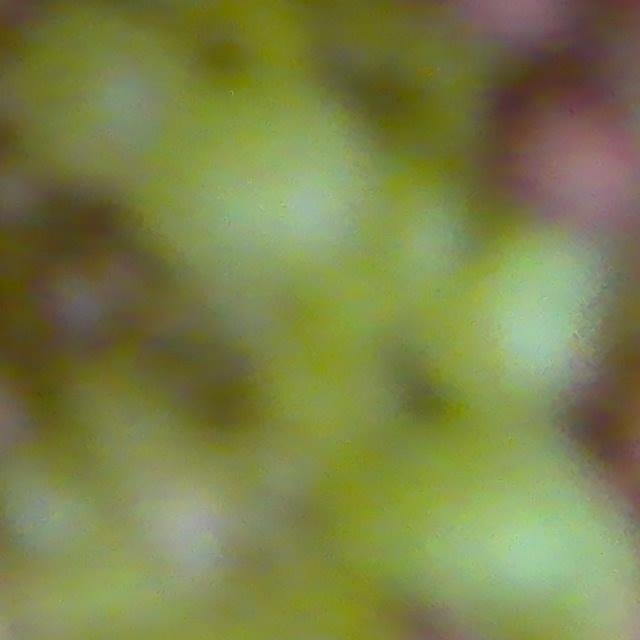SeaGrape: (149, 77, 364, 300), (381, 415, 593, 617), (442, 224, 593, 433), (498, 87, 630, 222), (0, 431, 110, 568)
